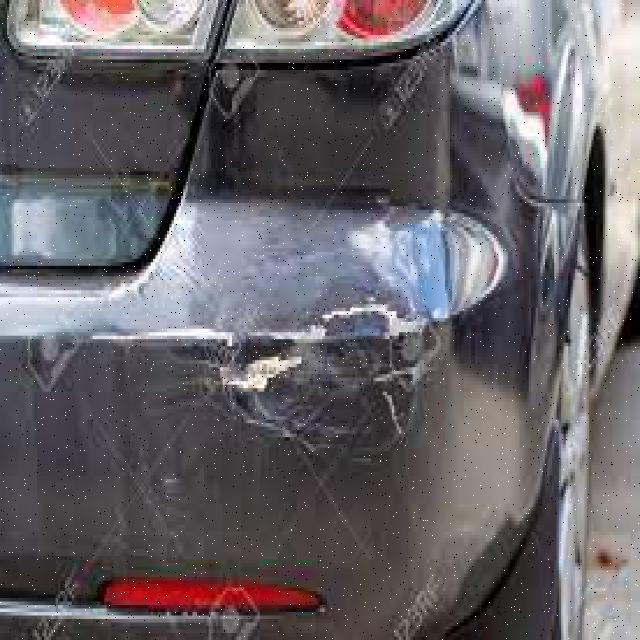rear-bumper-dent: (9, 214, 580, 636)
